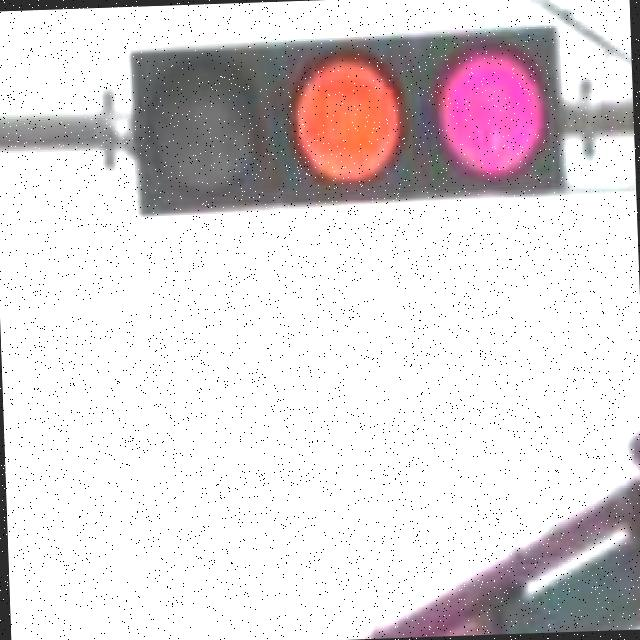Zolte swiatlo: (20, 90, 184, 608)
